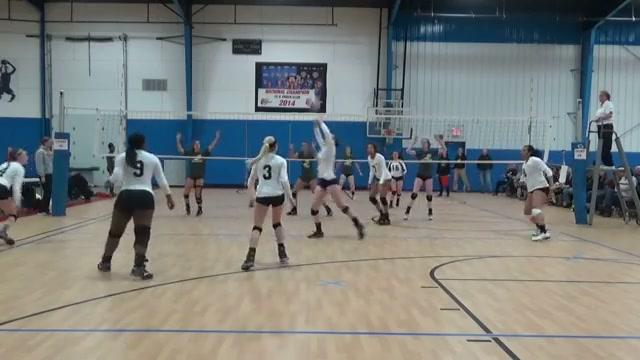ball: (310, 96, 322, 111)
